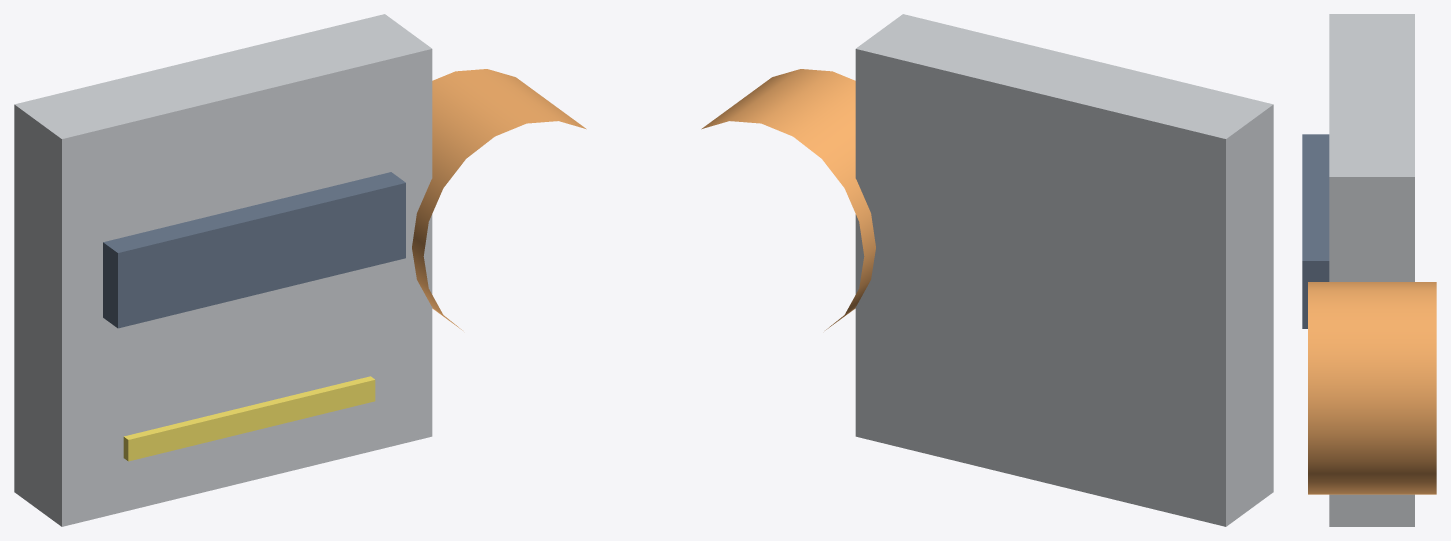
File: electrical_design_estimation.glb
3 renders of one model, left to right at view 1: azimuth 30°, elevation 25°; view 2: azimuth 150°, elevation 25°; view 3: azimuth 270°, elevation 25°, orthographic. The views are drawn at different scales.
Visible parts, largest first — view 1: DistributionBoardEnclosure, MCBRailRow, ArmouredCableDrum, NeutralEarthBusbar; view 2: DistributionBoardEnclosure, ArmouredCableDrum; view 3: ArmouredCableDrum, DistributionBoardEnclosure, MCBRailRow.
Part boxes in pixels (x1,y1,x2,y2): DistributionBoardEnclosure: (14, 14, 432, 526); MCBRailRow: (103, 172, 405, 328); ArmouredCableDrum: (412, 69, 586, 330); NeutralEarthBusbar: (123, 376, 375, 461); DistributionBoardEnclosure: (855, 14, 1273, 526); ArmouredCableDrum: (701, 69, 875, 330); ArmouredCableDrum: (1308, 282, 1436, 494); DistributionBoardEnclosure: (1329, 14, 1414, 526); MCBRailRow: (1302, 134, 1329, 328).
Size of the model in its own units: 2.7 by 1.8 by 0.625.
